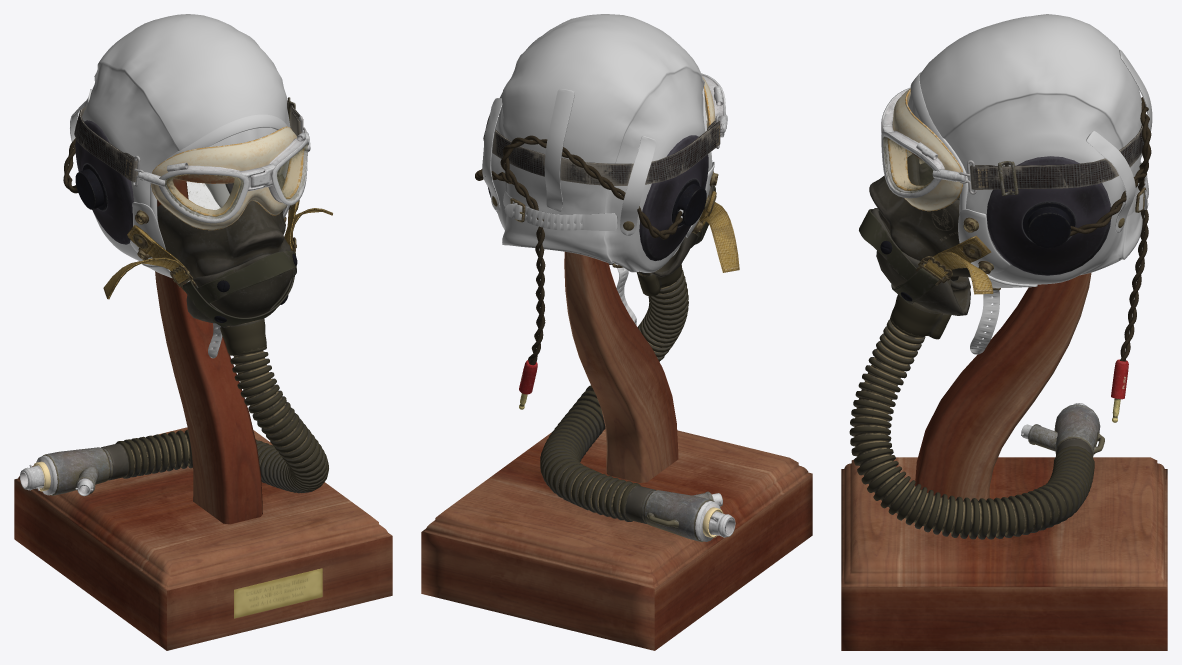
File: FlightHelmet.gltf
3 renders of one model, left to right at view 1: azimuth 30°, elevation 25°; view 2: azimuth 150°, elevation 25°; view 3: azimuth 270°, elevation 25°, orthographic. The views are drawn at different scales.
Parts seen in each view (by area): view 1: RubberWood_low, LeatherParts_low, MetalParts_low, GlassPlastic_low, Lenses_low; view 2: RubberWood_low, LeatherParts_low, MetalParts_low, GlassPlastic_low; view 3: RubberWood_low, LeatherParts_low, GlassPlastic_low, MetalParts_low, Lenses_low.
Part boxes in pixels (box(x1,y1,x2,y2)): RubberWood_low: box(14, 100, 392, 650); LeatherParts_low: box(70, 14, 290, 358); MetalParts_low: box(20, 97, 322, 618); GlassPlastic_low: box(75, 120, 304, 244); Lenses_low: box(165, 144, 307, 218); RubberWood_low: box(421, 114, 812, 650); LeatherParts_low: box(482, 14, 714, 325); MetalParts_low: box(492, 73, 735, 541); GlassPlastic_low: box(487, 76, 715, 260); RubberWood_low: box(841, 97, 1167, 650); LeatherParts_low: box(908, 14, 1152, 354); GlassPlastic_low: box(887, 88, 1110, 275); MetalParts_low: box(880, 87, 1146, 457); Lenses_low: box(883, 136, 933, 193).
Size of the model in its own units: 0.3427 by 0.6693 by 0.3473.
